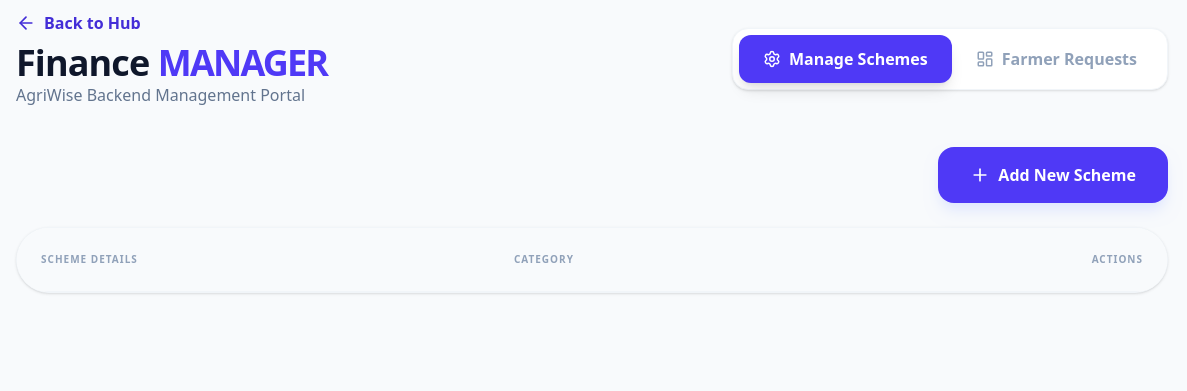
Test: FinanceAdmin Component › switches to farmer requests tab
Click the button "Farmer Requests". click: coordinates (1056, 59)
box: [952,35,1161,83]
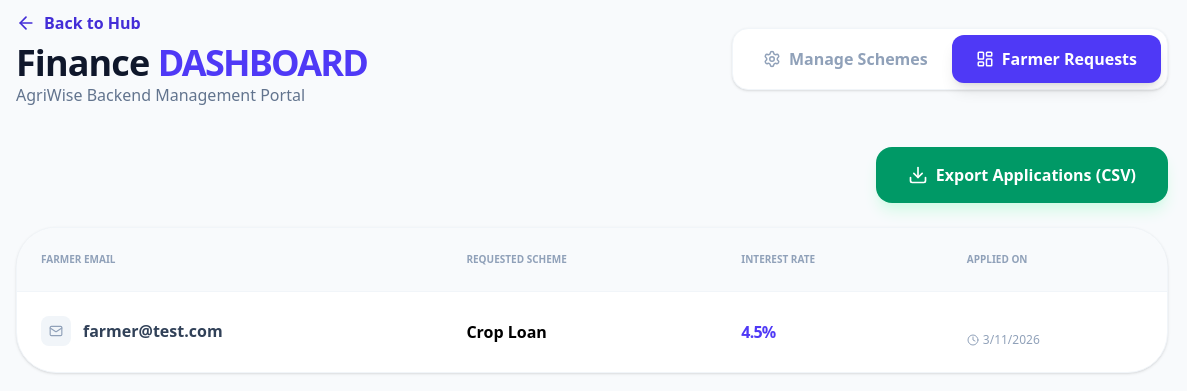
Result: the text "farmer@test.com" is shown at [83,319,223,343]
